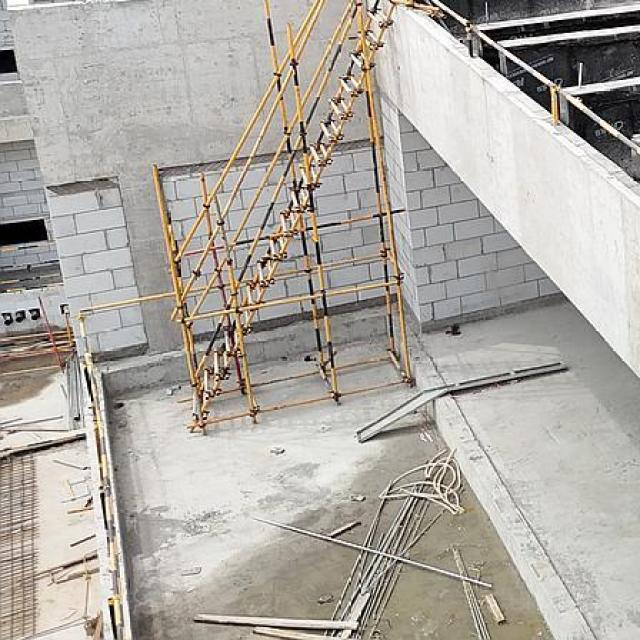edge_guardrail: (76, 290, 177, 640), (427, 0, 640, 157), (0, 239, 63, 294)
